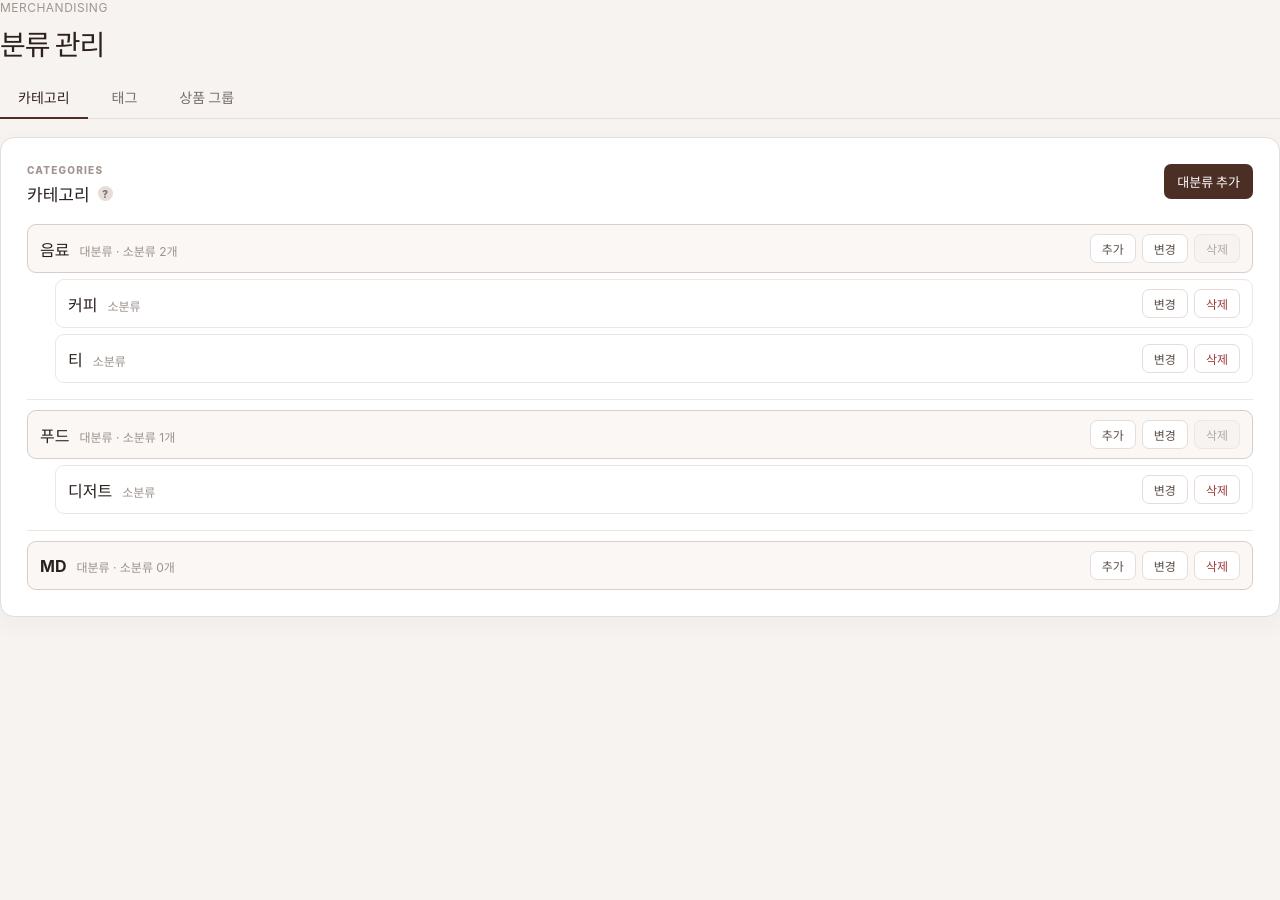
it: 카테고리 › 저장이 서버에서 거부되면 모달 안에 code별 안내를 보여준다
Click the button with aria-label "변경 · 커피": point(1165, 304) x1=1142 y1=289 x2=1188 y2=318
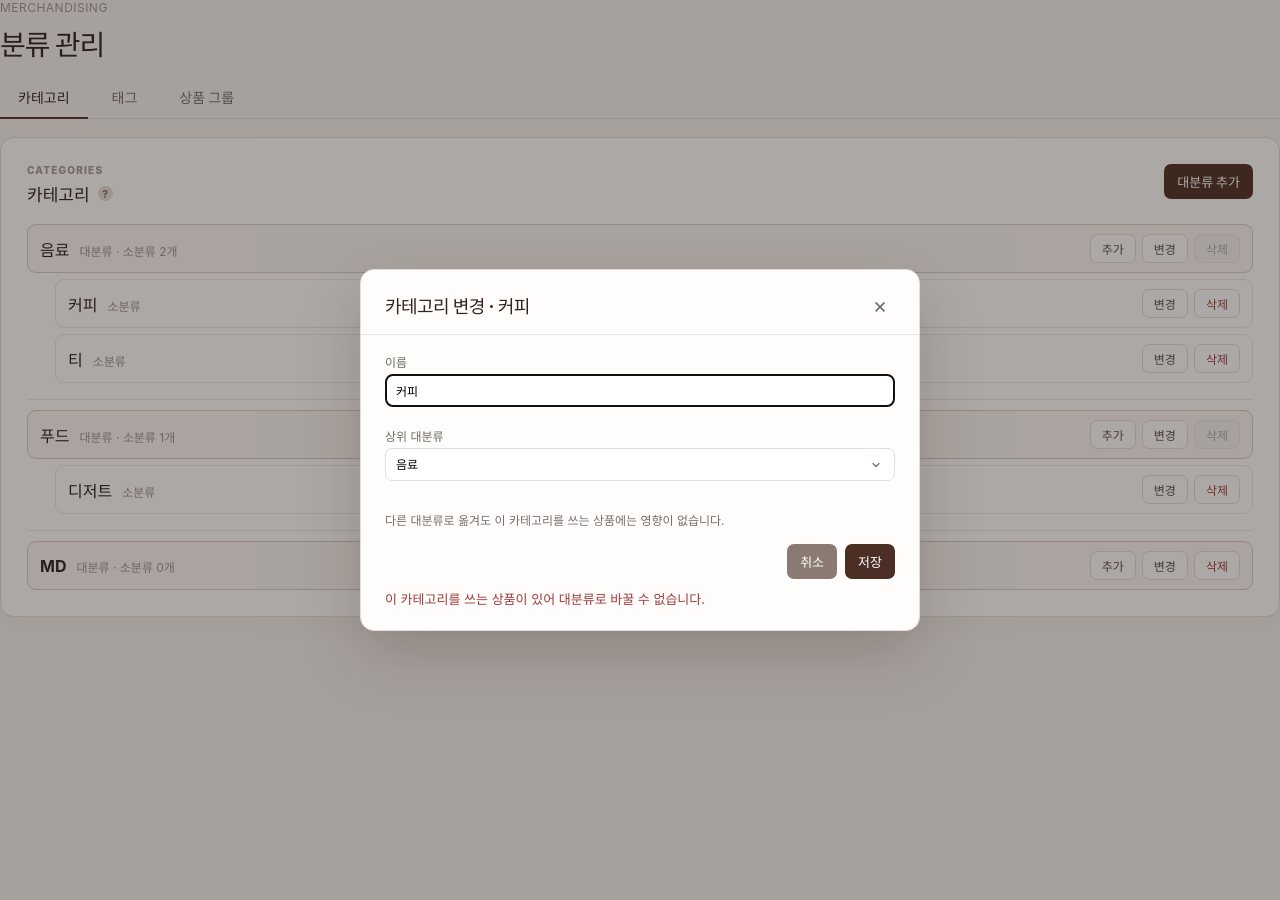
Now the message shows "대분류로 바꿀 수 없습니다", box x1=385 y1=591 x2=705 y2=607
